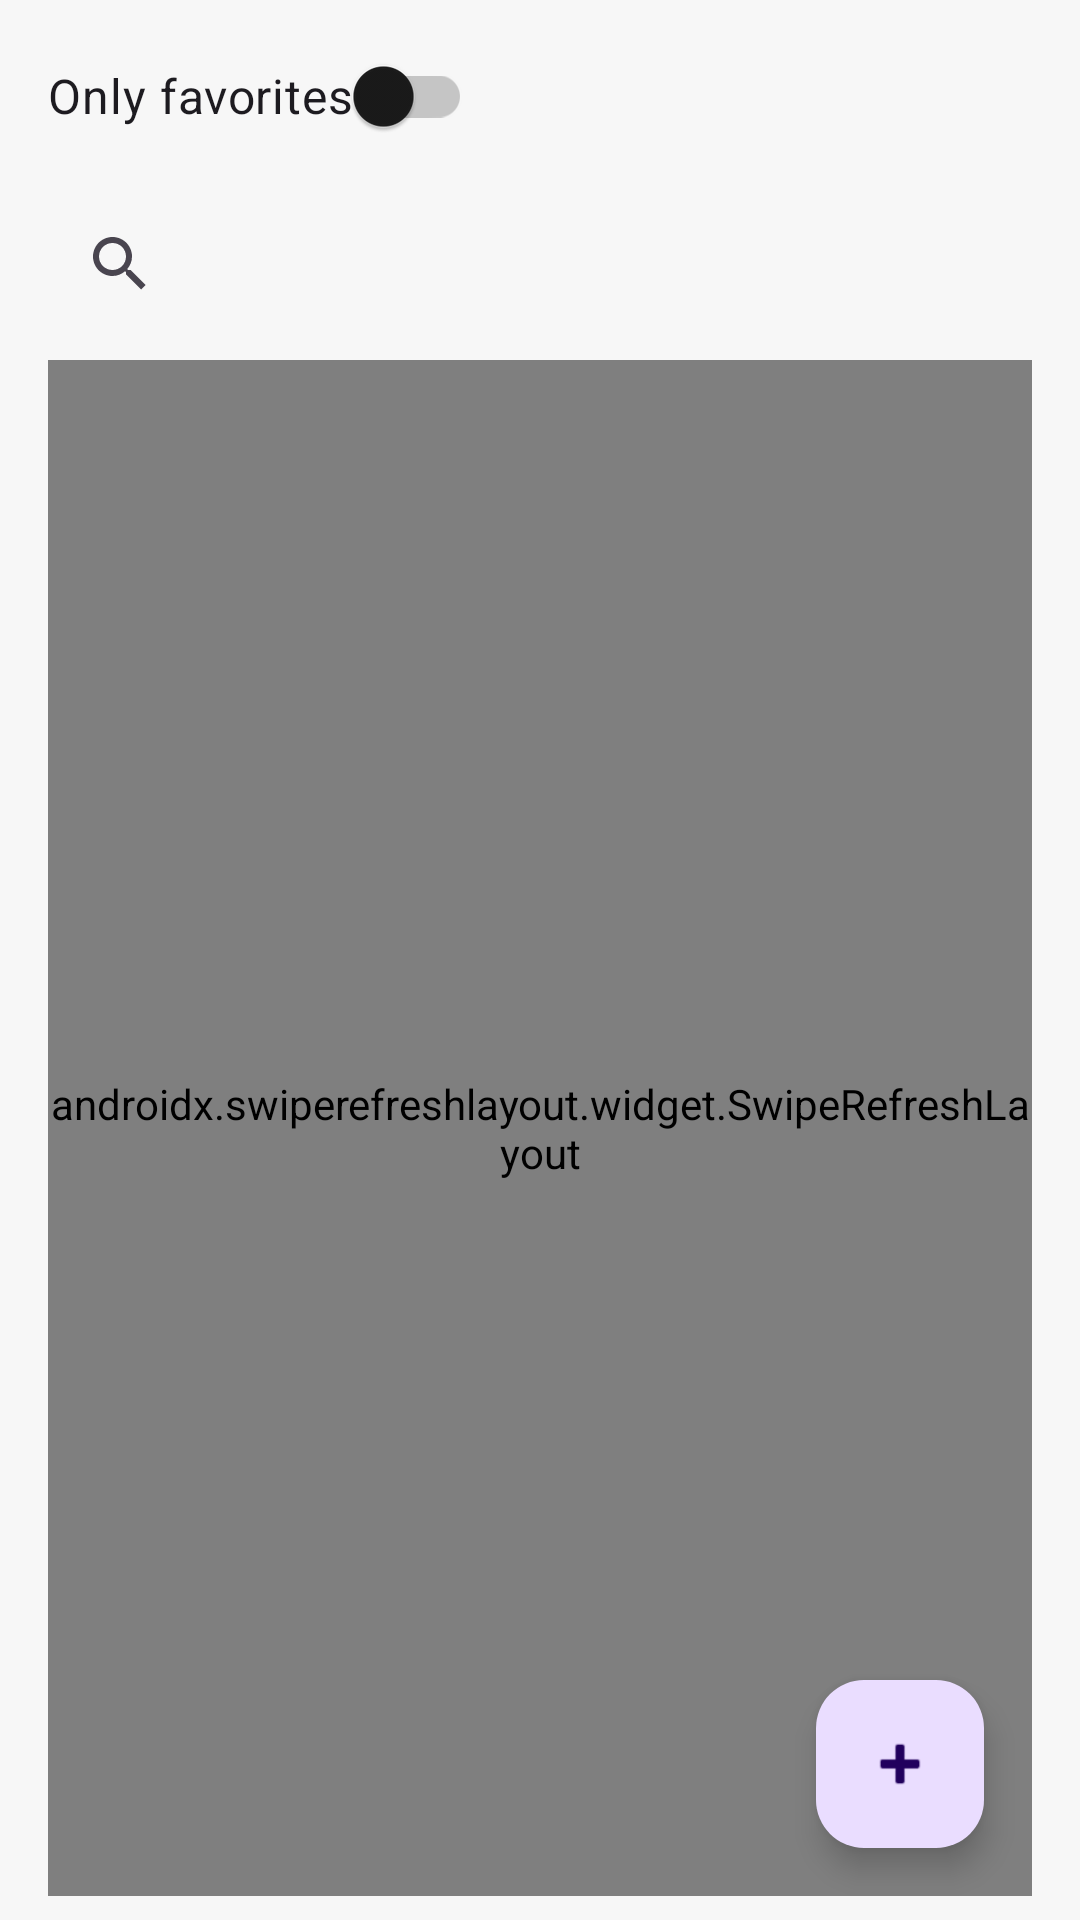

Screen size 1080 x 1920. Icon name, then its center in pixels as [x,y]:
Add: [900,1764]
